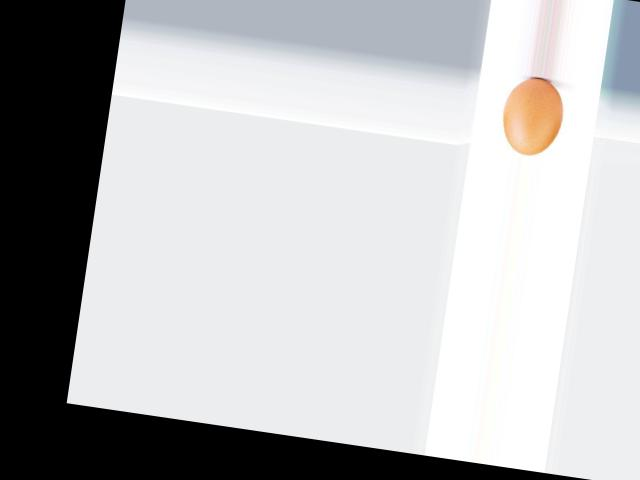egg: (498, 74, 568, 158)
